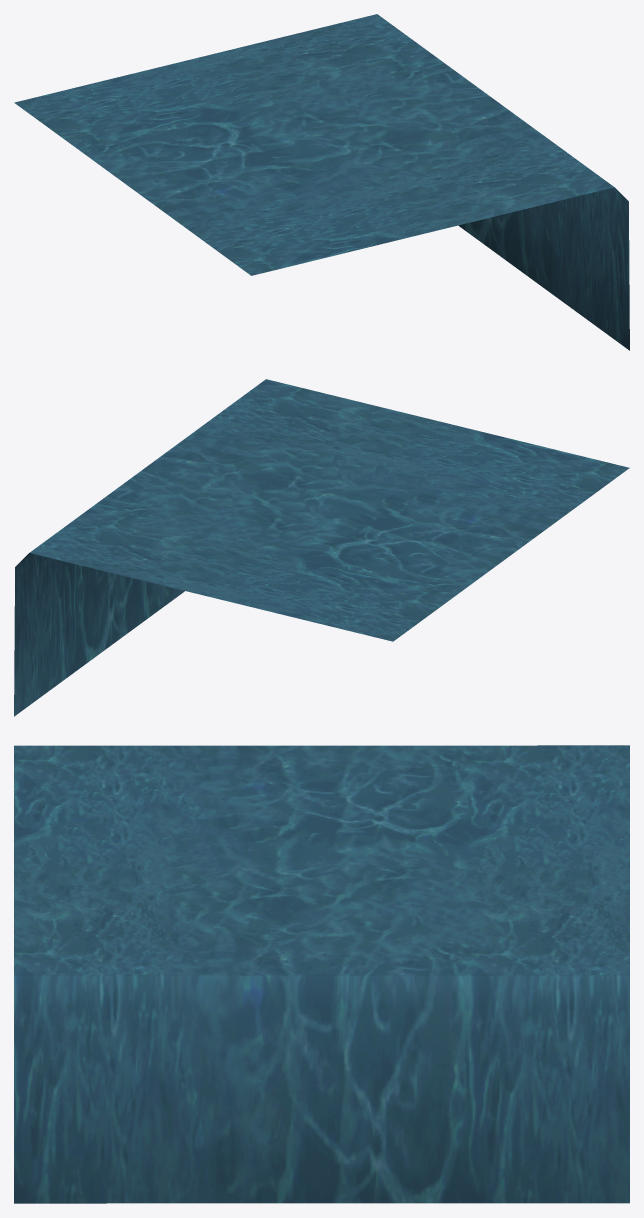
The model's file is FB4_shui03.FBX.
3 renders of one model, top to bottom at view 1: azimuth 30°, elevation 25°; view 2: azimuth 150°, elevation 25°; view 3: azimuth 270°, elevation 25°, orthographic. The views are drawn at different scales.
Parts seen in each view (by area): view 1: FB4_shui03_001; view 2: FB4_shui03_001; view 3: FB4_shui03_001.
Boxes of the visible parts, <box> form: FB4_shui03_001: <box>14,14,629,350</box>; FB4_shui03_001: <box>14,379,629,716</box>; FB4_shui03_001: <box>14,745,629,1203</box>.
Size of the model in its own units: 2688 by 1134 by 2910.
